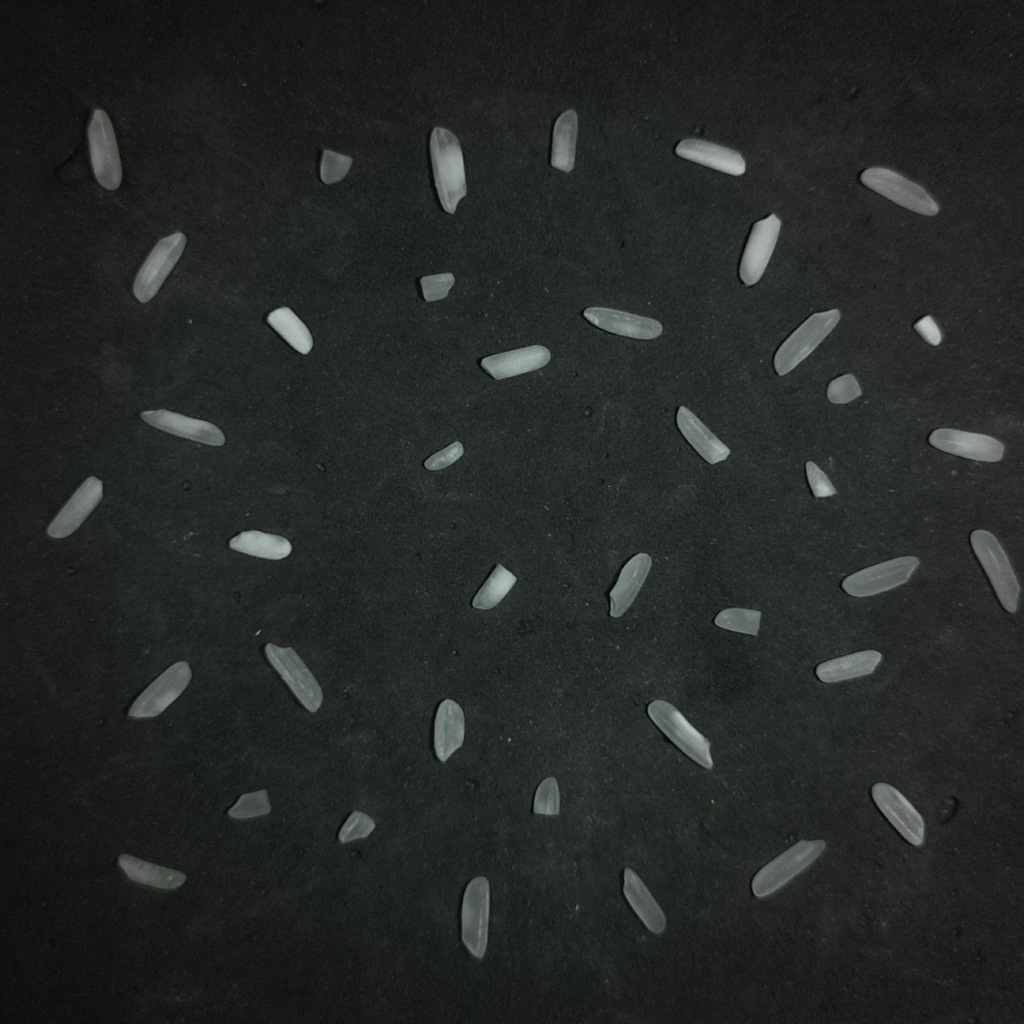broken: (609, 553, 651, 617), (228, 530, 291, 559), (551, 110, 577, 172), (714, 607, 760, 635), (228, 789, 270, 819), (319, 148, 352, 184), (339, 811, 375, 843), (805, 461, 836, 497), (424, 442, 463, 470), (826, 373, 862, 403), (419, 272, 454, 301), (533, 777, 559, 815)
chalky: (429, 127, 466, 213), (677, 406, 729, 464), (140, 410, 224, 445), (739, 214, 780, 285), (675, 138, 744, 175), (928, 428, 1003, 461), (480, 346, 550, 379), (266, 306, 312, 354), (472, 563, 516, 609), (913, 315, 942, 345)
whole: (773, 309, 840, 375), (647, 700, 712, 768), (751, 840, 825, 897), (970, 530, 1019, 612), (264, 643, 322, 712), (860, 166, 939, 215), (127, 661, 192, 718), (133, 231, 185, 302), (46, 476, 102, 538), (871, 783, 924, 845), (841, 556, 919, 596), (623, 867, 666, 933), (86, 109, 121, 190), (583, 307, 662, 339), (118, 853, 185, 890), (461, 876, 489, 958), (815, 649, 881, 682), (434, 699, 464, 762)
